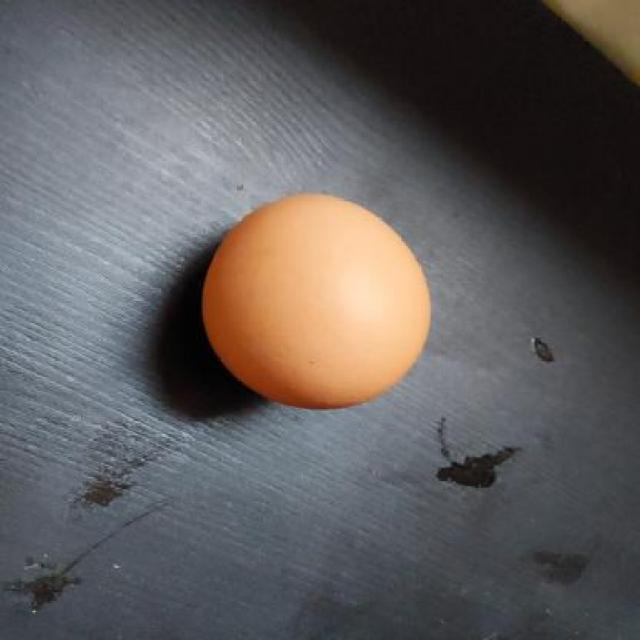biodegradable: (190, 190, 430, 408)
